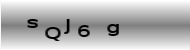6: (76, 24, 91, 38)
J: (62, 17, 72, 36)
Q: (44, 26, 62, 42)
g: (105, 22, 120, 38)
s: (26, 18, 39, 29)
